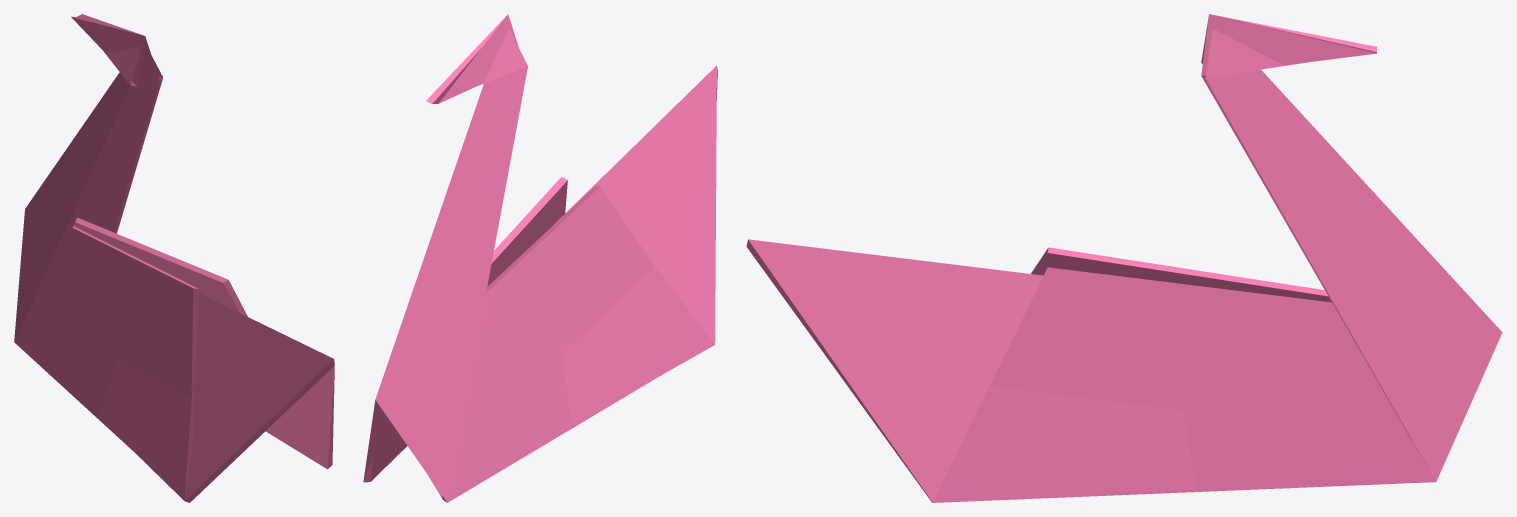
The model's file is swan.fbx.
3 renders of one model, left to right at view 1: azimuth 30°, elevation 25°; view 2: azimuth 150°, elevation 25°; view 3: azimuth 270°, elevation 25°, orthographic. The views are drawn at different scales.
Parts seen in each view (by area): view 1: Swan; view 2: Swan; view 3: Swan.
Boxes of the visible parts, <box> form: Swan: <box>14,14,334,502</box>; Swan: <box>363,14,717,502</box>; Swan: <box>746,14,1502,502</box>.
Size of the model in its own units: 151 by 358 by 548.
